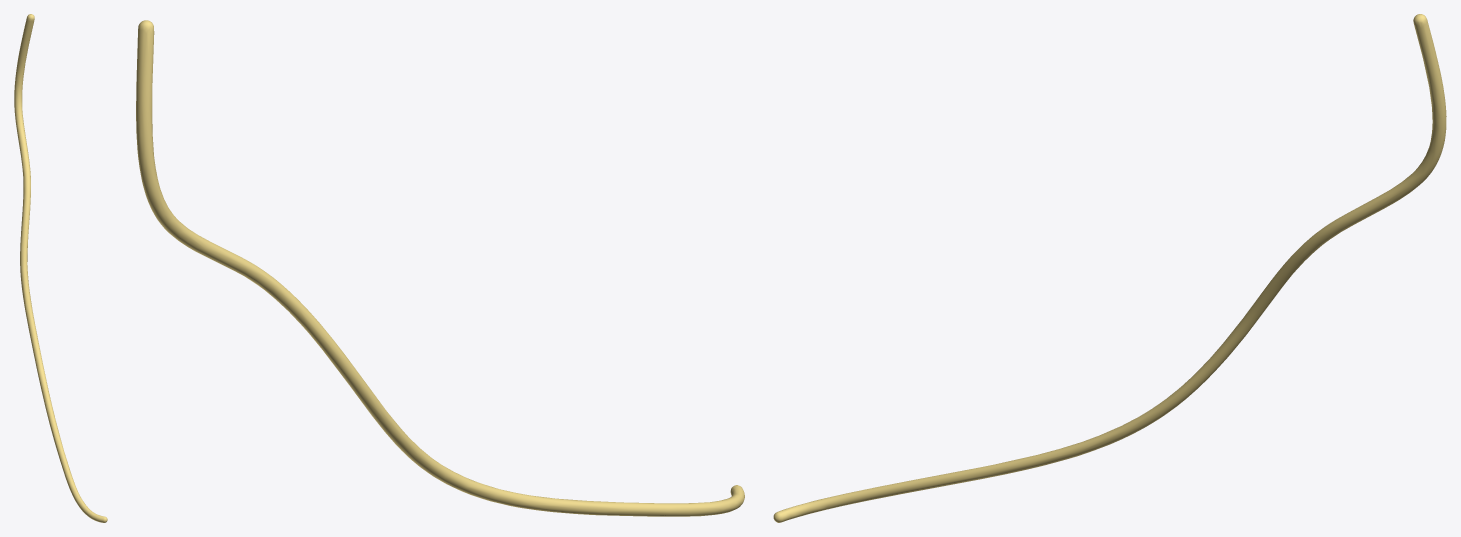
Rendered from fma80519_fj3942.glb.
The picture shows the model from 3 angles, left to right: view 1: azimuth 30°, elevation 25°; view 2: azimuth 150°, elevation 25°; view 3: azimuth 270°, elevation 25°; orthographic projection. The views are drawn at different scales.
Parts seen in each view (by area): view 1: FMA80519_FJ3942; view 2: FMA80519_FJ3942; view 3: FMA80519_FJ3942.
Part boxes in pixels (x1,y1,x2,y2): FMA80519_FJ3942: [14, 14, 107, 522]; FMA80519_FJ3942: [136, 20, 744, 516]; FMA80519_FJ3942: [773, 14, 1446, 522].
Bounding box in the file's own units: 0.0174 × 0.0464 × 0.047.
